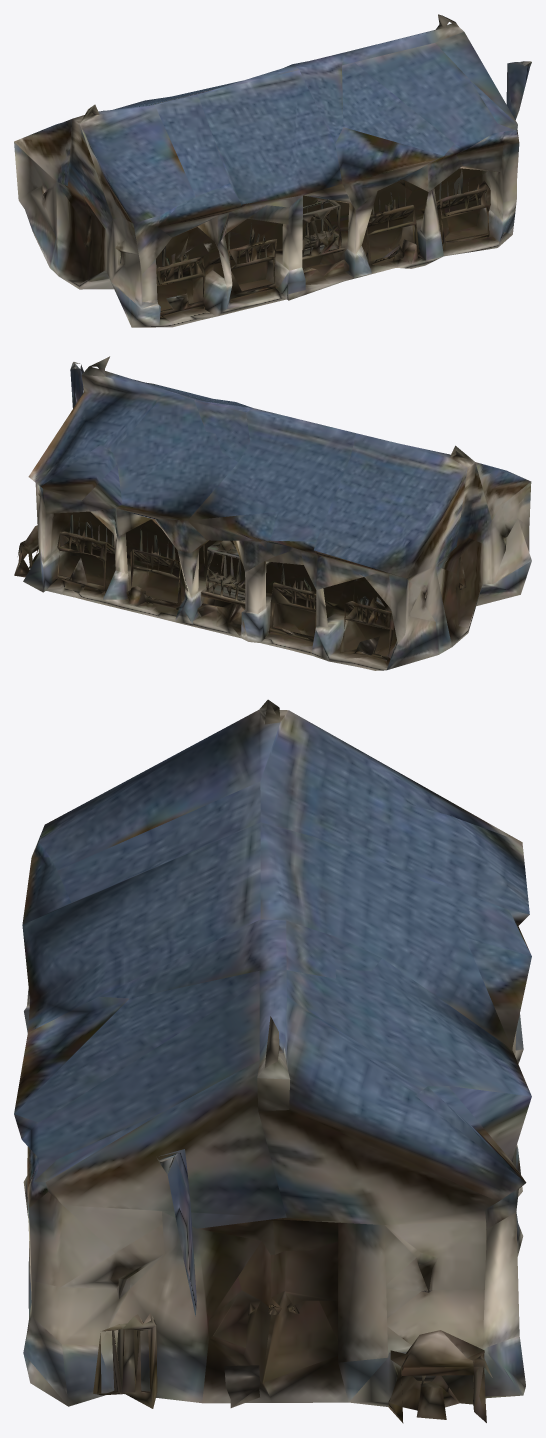
The model's file is armory_1.glb.
3 renders of one model, top to bottom at view 1: azimuth 30°, elevation 25°; view 2: azimuth 150°, elevation 25°; view 3: azimuth 270°, elevation 25°, orthographic. The views are drawn at different scales.
Visible parts, largest first — view 1: tripo_node_42ef8b94-c11f-49b5-9757-b9f268de9b9a; view 2: tripo_node_42ef8b94-c11f-49b5-9757-b9f268de9b9a; view 3: tripo_node_42ef8b94-c11f-49b5-9757-b9f268de9b9a.
Boxes of the visible parts, x1,y1,x2,y2 form: tripo_node_42ef8b94-c11f-49b5-9757-b9f268de9b9a: [14, 14, 531, 327]; tripo_node_42ef8b94-c11f-49b5-9757-b9f268de9b9a: [14, 356, 531, 670]; tripo_node_42ef8b94-c11f-49b5-9757-b9f268de9b9a: [14, 699, 531, 1423].
Bounding box in the file's own units: 0.9675 × 0.407 × 0.5181.
1 material, 1 textured.
